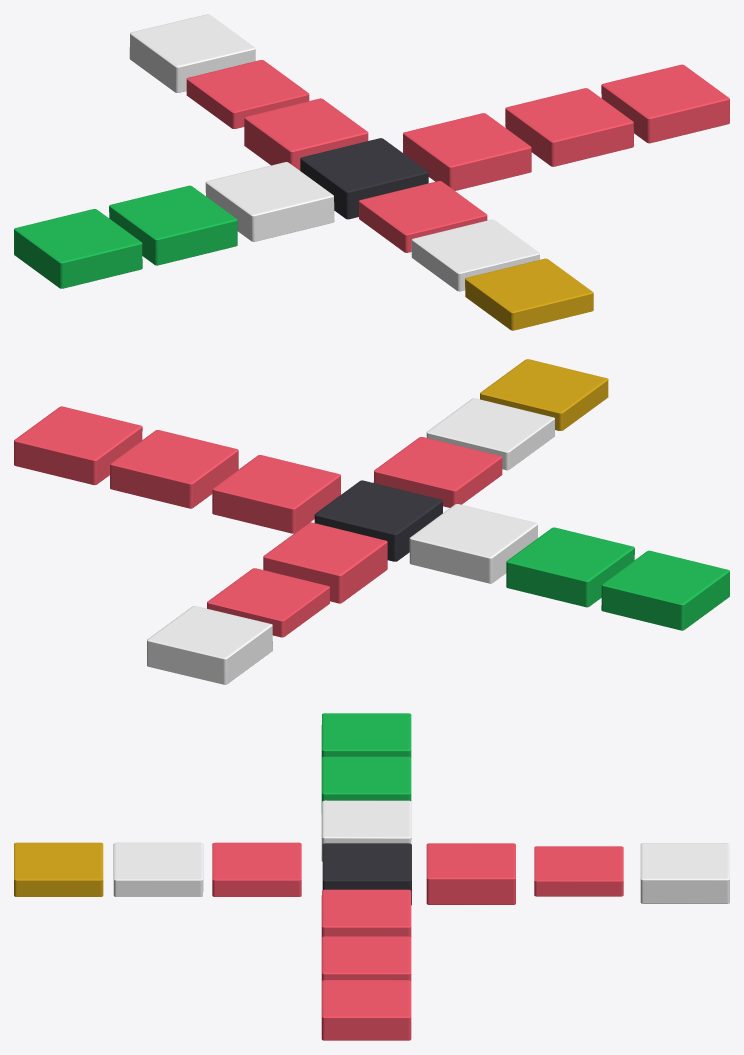
The model's file is jump_domi3.gltf.
3 views of the same model, one above another, from view 1: azimuth 30°, elevation 25°; view 2: azimuth 150°, elevation 25°; view 3: azimuth 270°, elevation 25° (orthographic). The views are drawn at different scales.
Parts seen in each view (by area): view 1: Cube left (×3), Cube bottom (×3), Cube right (×2), Cube top (×2), Cube right center, Cube center, Cube top center; view 2: Cube left (×3), Cube bottom (×3), Cube right (×2), Cube top (×2), Cube right center, Cube top center, Cube center; view 3: Cube bottom (×3), Cube left (×3), Cube top (×2), Cube right (×2), Cube top center, Cube right center, Cube center.
Part boxes in pixels (box(x1,y1,x2,y2)): Cube left (×3): box(14, 162, 334, 288); Cube bottom (×3): box(359, 181, 593, 330); Cube right (×2): box(505, 64, 729, 166); Cube top (×2): box(129, 14, 309, 128); Cube right center: box(403, 113, 531, 190); Cube center: box(300, 138, 428, 219); Cube top center: box(244, 98, 368, 170); Cube left (×3): box(409, 504, 729, 630); Cube bottom (×3): box(373, 359, 608, 507); Cube right (×2): box(14, 406, 238, 508); Cube top (×2): box(147, 568, 329, 684); Cube right center: box(212, 455, 340, 533); Cube top center: box(263, 522, 387, 603); Cube center: box(314, 480, 442, 561); Cube bottom (×3): box(14, 842, 301, 896); Cube left (×3): box(321, 713, 411, 861); Cube top (×2): box(534, 843, 729, 903); Cube right (×2): box(321, 936, 411, 1040); Cube top center: box(426, 843, 515, 904); Cube right center: box(321, 889, 411, 947); Cube center: box(322, 843, 411, 905).
Size of the model in its own units: 9.71 by 0.4093 by 9.61.
